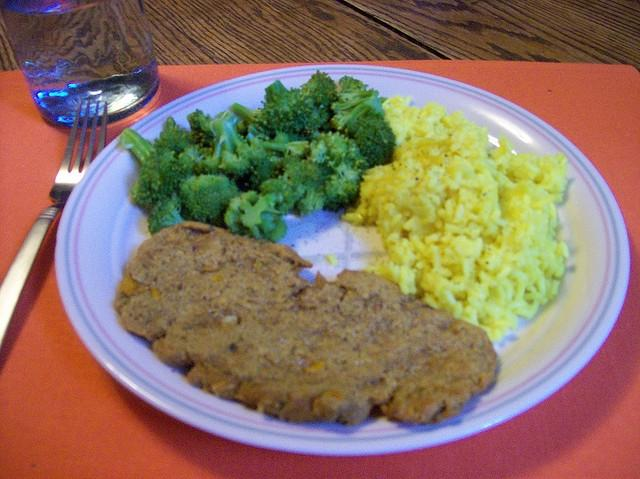broccoli: (120, 127, 212, 215), (308, 132, 371, 212), (193, 118, 269, 183), (224, 190, 287, 242), (178, 173, 238, 222), (258, 79, 310, 129), (331, 90, 386, 130), (259, 171, 306, 214), (154, 116, 192, 158), (230, 102, 274, 138), (148, 194, 185, 235), (282, 159, 326, 193), (187, 108, 215, 156), (300, 70, 338, 100), (263, 140, 310, 158), (336, 76, 368, 94), (273, 132, 289, 145)
